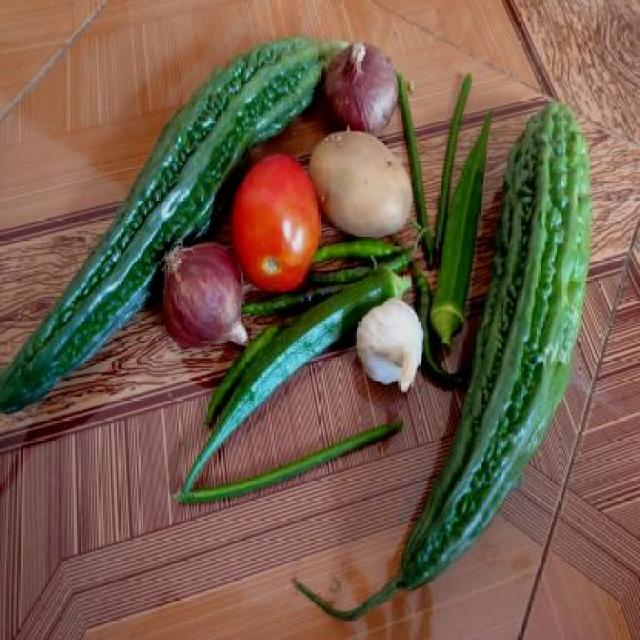Bitter melon: (483, 103, 588, 494)
Garlic: (354, 298, 421, 397)
Green Chili: (314, 236, 412, 282)
Lady finger: (437, 146, 486, 340)
Onion: (164, 245, 244, 352), (323, 46, 397, 134)
Potato: (311, 128, 415, 238)
Tomato: (234, 153, 318, 290)
